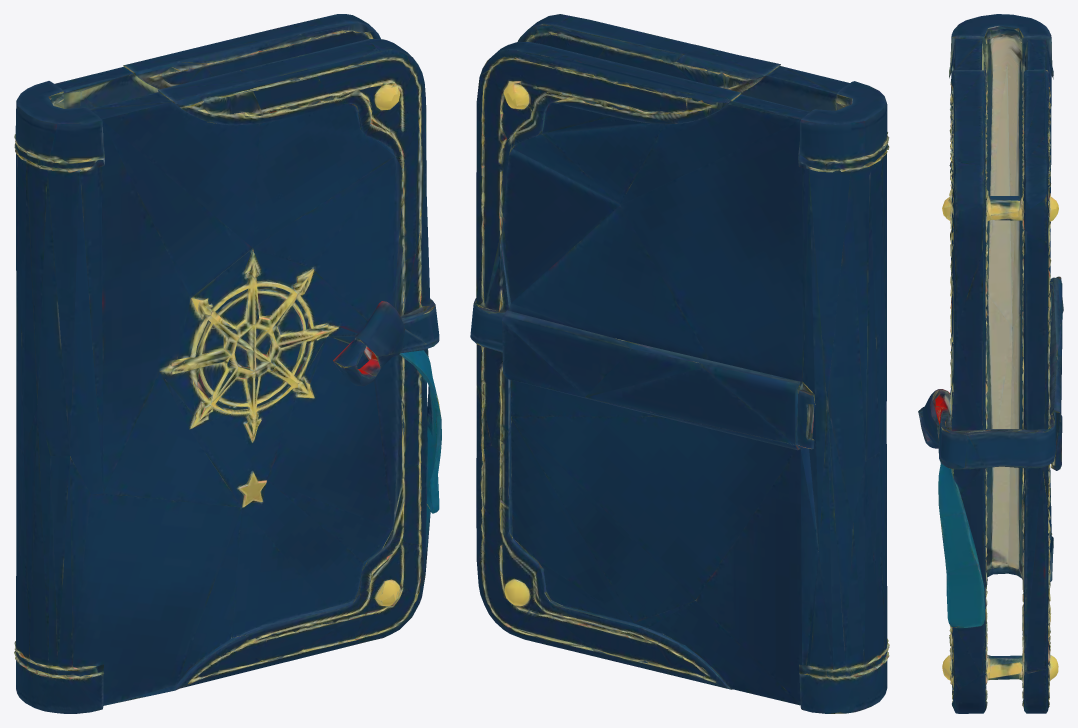
The model's file is journal.glb.
3 views of the same model, side by side, from view 1: azimuth 30°, elevation 25°; view 2: azimuth 150°, elevation 25°; view 3: azimuth 270°, elevation 25° (orthographic). The views are drawn at different scales.
Size of the model in its own units: 1.32 by 1.9 by 0.4569.
Materials: 1 (1 with a texture image).
